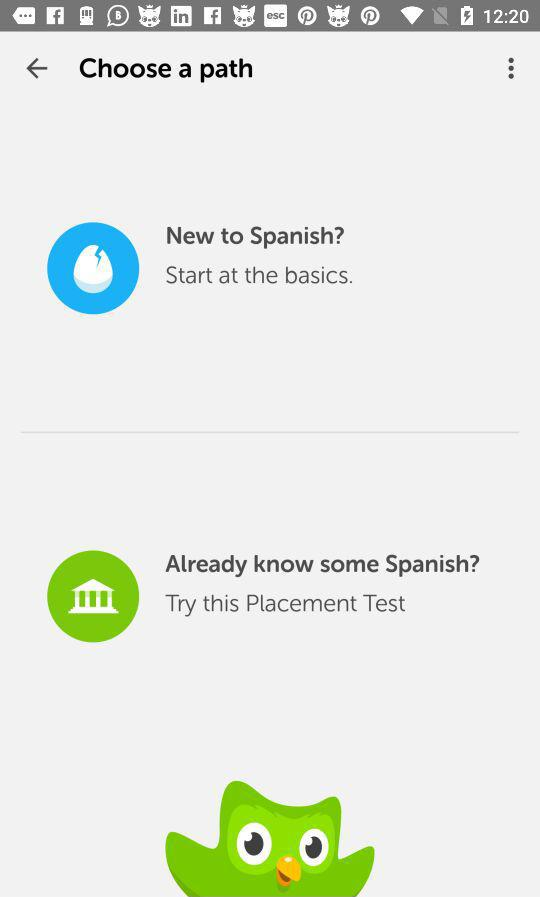Icon: (48, 550, 141, 644), (27, 58, 49, 80), (507, 58, 515, 81)
Image: (165, 780, 375, 897), (48, 222, 141, 315)
Text: (166, 554, 480, 578), (165, 593, 406, 617), (80, 58, 253, 85), (167, 226, 345, 250), (166, 266, 353, 285)
UpperTaskBar: (1, 1, 540, 33)
